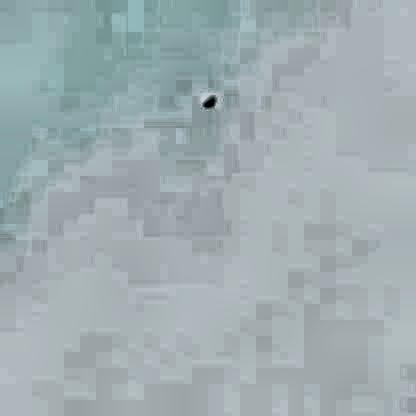golfball: (200, 88, 213, 106)
